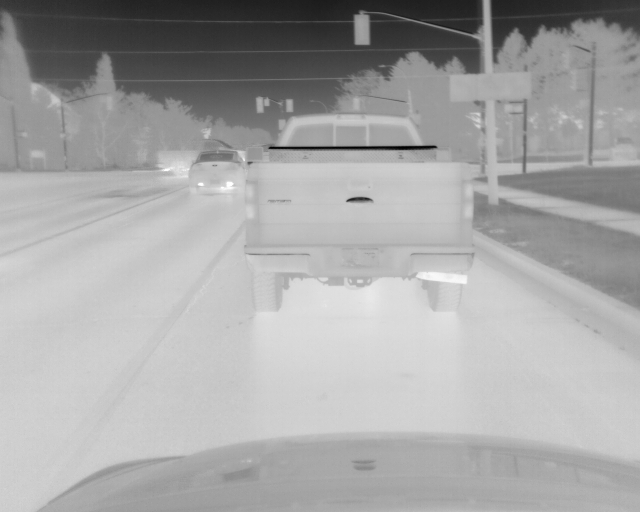car: (241, 113, 475, 313), (187, 149, 247, 194)
